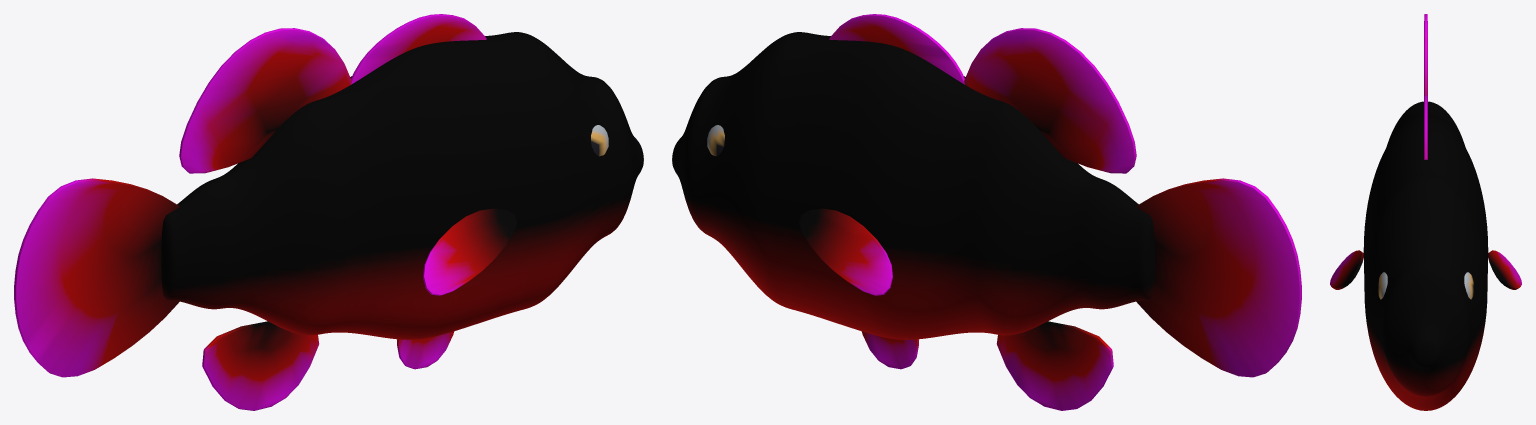
File: clownfish.glb
The picture shows the model from 3 angles, left to right: view 1: azimuth 30°, elevation 25°; view 2: azimuth 150°, elevation 25°; view 3: azimuth 270°, elevation 25°; orthographic projection. The views are drawn at different scales.
Parts seen in each view (by area): view 1: Clownfish; view 2: Clownfish; view 3: Clownfish, ClownfishEyes.
Boxes of the visible parts, x1=… form: Clownfish: x1=14, y1=14, x2=643, y2=410; Clownfish: x1=672, y1=14, x2=1301, y2=410; Clownfish: x1=1330, y1=14, x2=1521, y2=410; ClownfishEyes: x1=1378, y1=272, x2=1473, y2=299.
Bounding box in the file's own units: 1.68 × 0.9619 × 0.5217.
